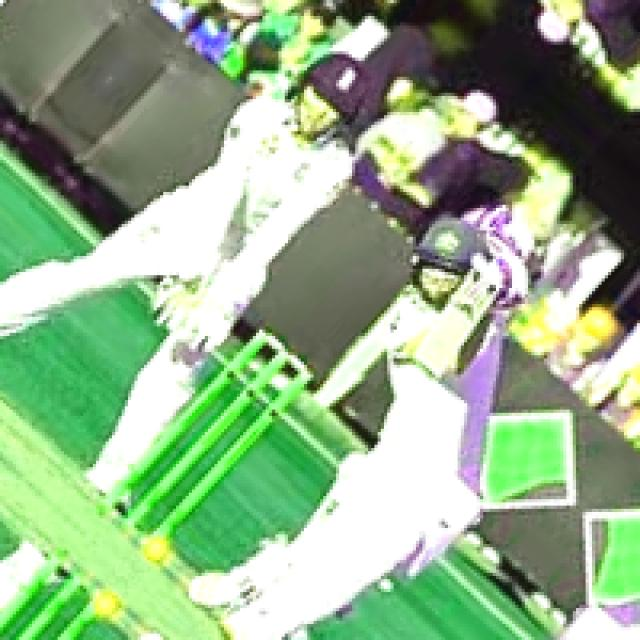toe: (404, 332, 456, 389)
